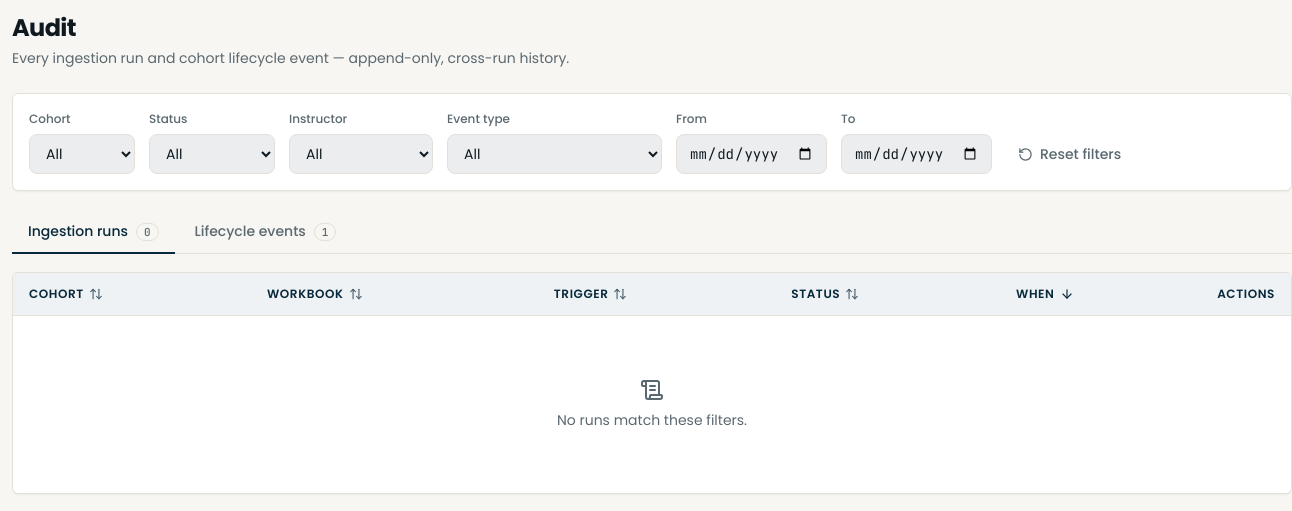
AuditView › renders lifecycle events on the events tab, falling back to the cohorts store for the cohort name
The image size is (1292, 511).
Click the tab "Lifecycle events 1" at (266, 232), box [179,211,352,254]
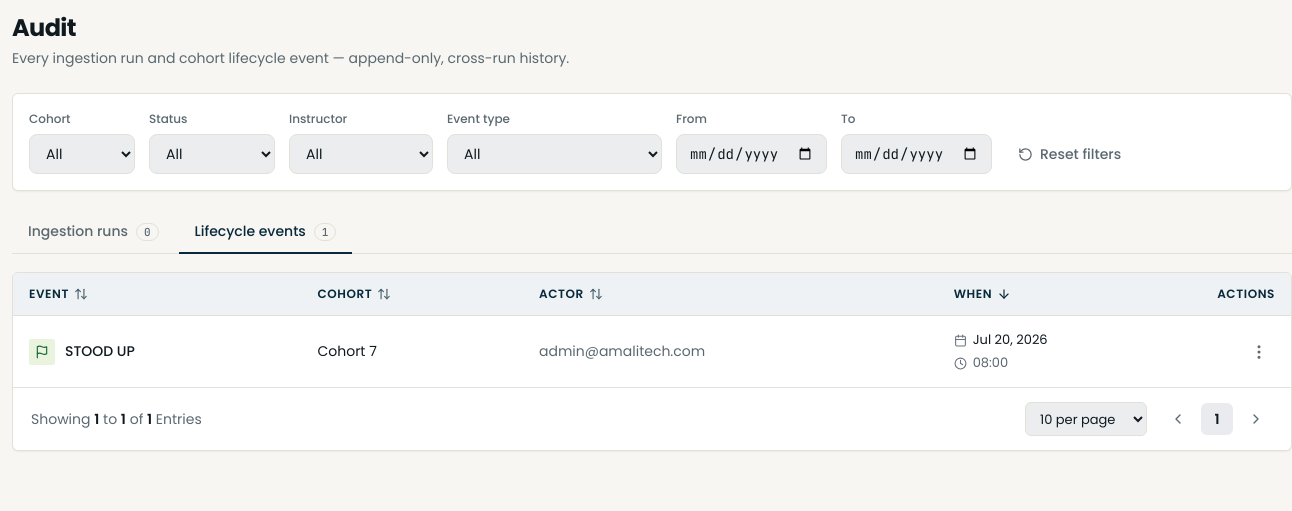
Now the text "STOOD UP" is shown, box [29,338,135,364]
Now the text "admin@amalitech.com" is shown, box [523,316,938,387]
Now the text "Cohort 7" is shown, box [301,316,523,387]
